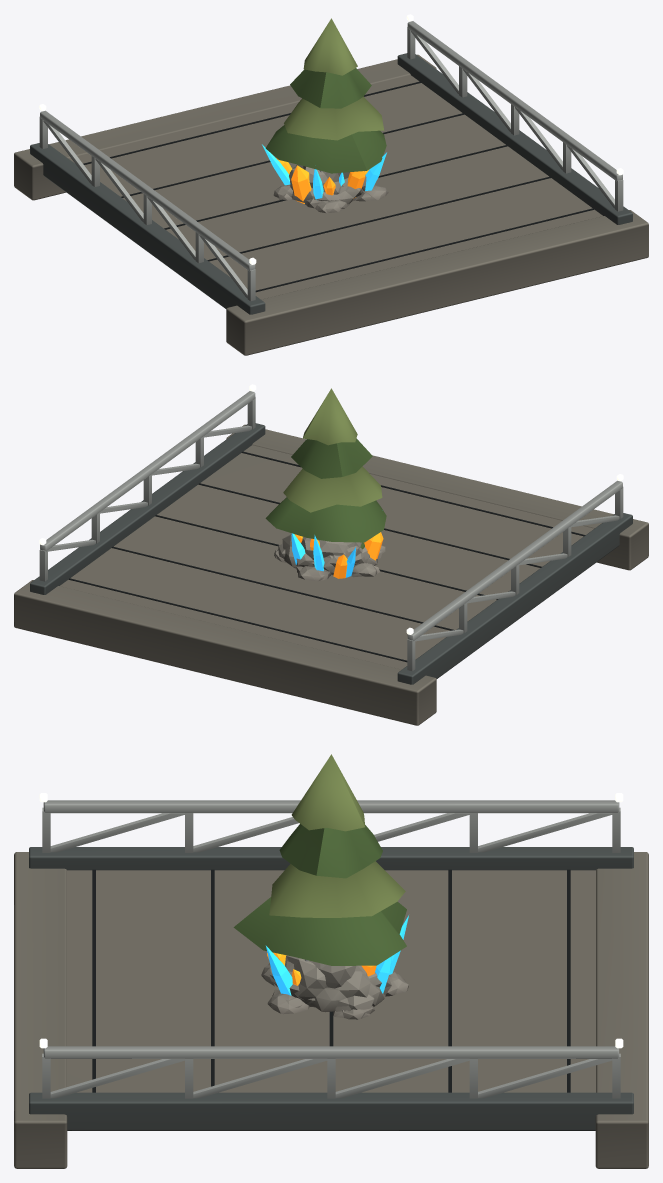
Rendered from environment.glb.
3 views of the same model, one above another, from view 1: azimuth 30°, elevation 25°; view 2: azimuth 150°, elevation 25°; view 3: azimuth 270°, elevation 25° (orthographic). The views are drawn at different scales.
Visible parts, largest first — view 1: Deck, Girders, Truss, Crown, Crown.001, Seams, Crystal, Crystal.001, Rock.003, Rock.001, Rock.002; view 2: Deck, Girders, Truss, Crown, Crown.001, Seams, Rock, Rock.001, Crystal.001, Crystal, Rock.003; view 3: Deck, Girders, Truss, Crown, Crown.001, Seams, Rock, Crystal.001, Rock.003, Rock.001, Rock.002.
Part boxes in pixels (x1,y1,x2,y2): Deck: (14,54,648,355); Girders: (30,53,632,314); Truss: (39,21,623,301); Crown: (265,68,386,173); Crown.001: (284,18,384,140); Seams: (83,81,594,292); Crystal: (276,158,369,203); Crystal.001: (262,144,386,199); Rock.003: (273,184,388,213); Rock.001: (289,164,366,205); Rock.002: (289,170,363,208); Deck: (14,424,648,725); Girders: (30,423,632,684); Truss: (39,391,623,671); Crown: (265,438,386,542); Crown.001: (283,388,382,512); Seams: (68,451,585,662); Rock: (281,534,379,575); Rock.001: (301,537,378,563); Crystal.001: (291,533,355,577); Crystal: (294,532,383,578); Rock.003: (274,545,385,580); Deck: (14,852,648,1168); Girders: (29,847,633,1130); Truss: (42,800,620,1098); Crown: (233,824,406,965); Crown.001: (269,754,405,917); Seams: (92,869,570,1092); Rock: (285,955,385,1012); Crystal.001: (265,915,408,995); Rock.003: (263,963,405,1018); Rock.001: (286,961,367,1011); Rock.002: (269,972,391,1009).
Size of the model in its own units: 10.8 by 5.21 by 10.7.
